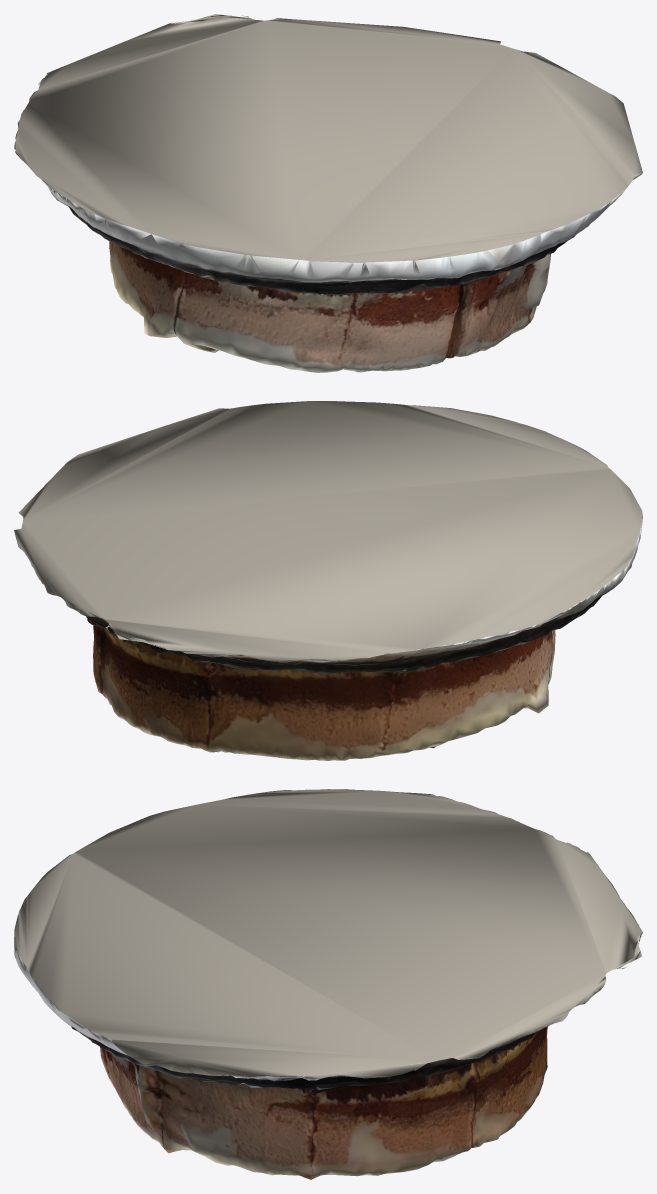
File: cake_11574.obj
3 views of the same model, one above another, from view 1: azimuth 30°, elevation 25°; view 2: azimuth 150°, elevation 25°; view 3: azimuth 270°, elevation 25° (orthographic). The views are drawn at different scales.
Size of the model in its own units: 0.1761 by 0.0565 by 0.1767.
1 material, 1 textured.
